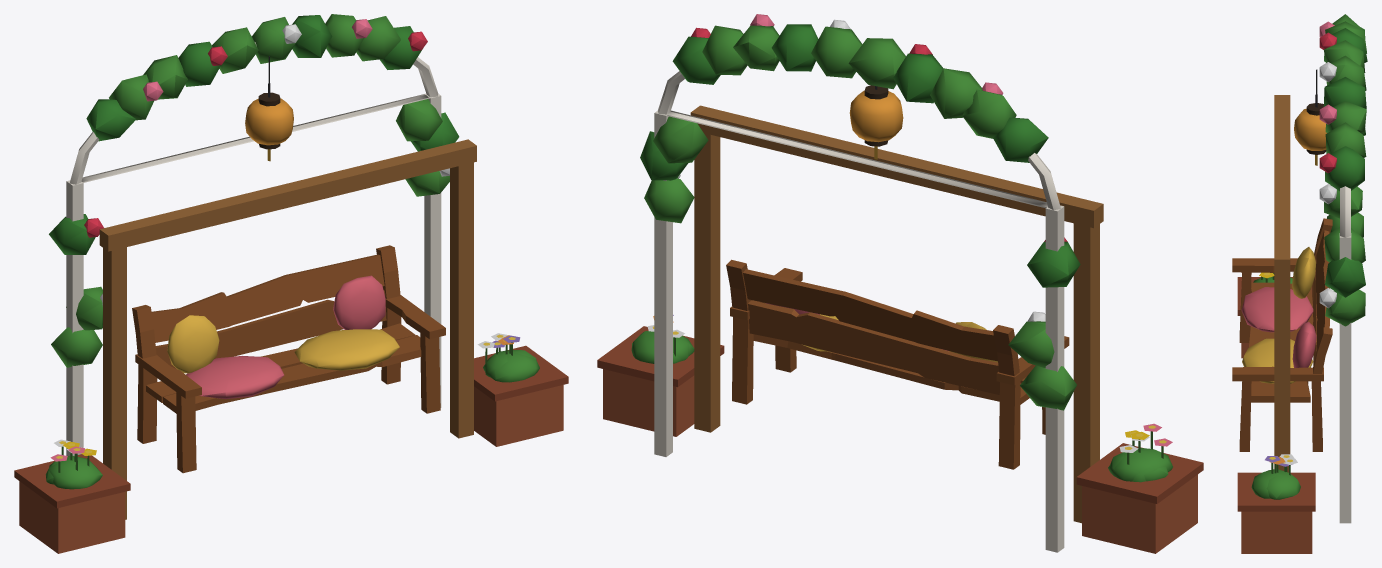
Rendered from bench_swing-3.glb.
3 renders of one model, left to right at view 1: azimuth 30°, elevation 25°; view 2: azimuth 150°, elevation 25°; view 3: azimuth 270°, elevation 25°, orthographic. The views are drawn at different scales.
Parts seen in each view (by area): view 1: decor-bench_swing-3; view 2: decor-bench_swing-3; view 3: decor-bench_swing-3.
Boxes of the visible parts, box(x1,y1,x2,y2) form: decor-bench_swing-3: box(14, 14, 568, 553); decor-bench_swing-3: box(597, 14, 1203, 553); decor-bench_swing-3: box(1232, 14, 1367, 553).
Bounding box in the file's own units: 4.72 × 3.76 × 1.18.
